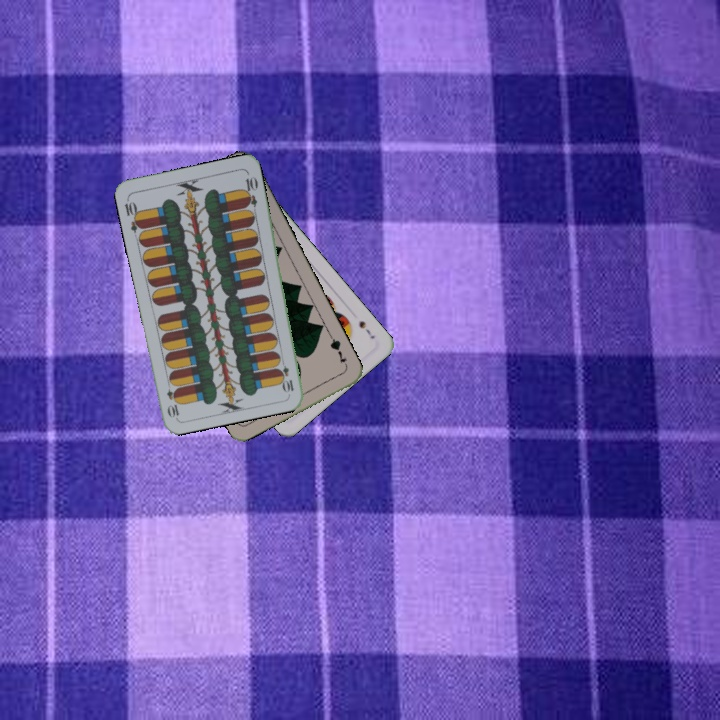E10: (121, 194, 145, 235), (276, 354, 296, 395)
G7: (326, 332, 350, 370)
S7: (355, 317, 378, 342)
